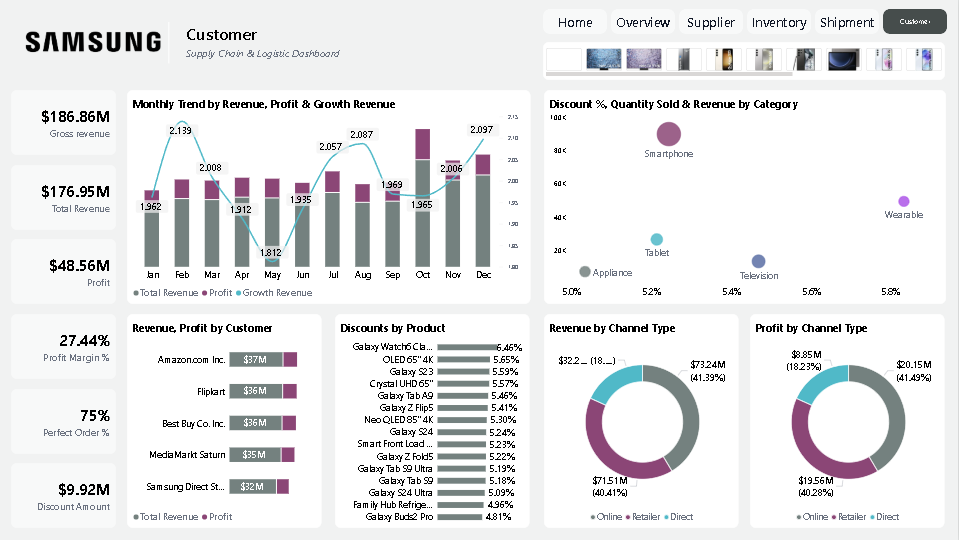

Layout of this report page (visuals, bound fields, positions):
{"tool":"powerbi","page":{"name":"Customer","canvas":[1920,1080],"ordinal":5},"visuals":[{"type":"image","box":[34,30,300,106],"z":0},{"type":"shape","title":"Customer","box":[376.1,43.5,352.2,84.8],"z":1000},{"type":"shape","box":[290,43.3,103.3,83.3],"z":2000},{"type":"cardVisual","fields":{"Data":["Measures Table.Total Revenue"]},"box":[26.7,329.9,210,130],"z":3000},{"type":"cardVisual","fields":{"Data":["Measures Table.Profit"]},"box":[26.7,479,210,130],"z":4000},{"type":"cardVisual","fields":{"Data":["Sum(fact_sales.discount_amount)"]},"box":[26.1,926.1,210,130.4],"z":5000},{"type":"cardVisual","fields":{"Data":["Sum(fact_sales.gross_revenue)"]},"box":[26.1,180.4,210,130.4],"z":6000},{"type":"cardVisual","fields":{"Data":["Measures Table.Perfect Order %"]},"box":[26.7,777,210,130],"z":7000},{"type":"cardVisual","fields":{"Data":["Measures Table.Profit Margin %"]},"box":[26.7,628,210,130],"z":8000},{"type":"clusteredBarChart","title":"Discounts by Product ","fields":{"Category":["dim_product.product_name"],"Y":["Measures Table.Discount %"]},"box":[673.9,628.3,389.1,428.3],"z":9000},{"type":"barChart","title":"Revenue, Profit by Customer","fields":{"Category":["dim_customer.customer_name"],"Y":["Measures Table.Total Revenue","Measures Table.Profit"]},"box":[258.7,628.3,389.1,428.3],"z":10000},{"type":"donutChart","title":"Revenue by Channel Type","fields":{"Y":["Measures Table.Total Revenue"],"Category":["dim_customer.channel_type"]},"box":[1091.3,628.3,389,428.3],"z":11000},{"type":"scatterChart","title":"Discount %, Quantity Sold & Revenue by Category","fields":{"Y":["Sum(fact_sales.quantity_sold)"],"X":["Measures Table.Discount %"],"Size":["Measures Table.Total Revenue"],"Series":["dim_product.category"]},"box":[1091.3,180.4,804.3,428.3],"z":12000},{"type":"lineStackedColumnComboChart","title":"Monthly Trend by Revenue, Profit & Growth Revenue","fields":{"Category":["dim_date.Month_short"],"Y":["Measures Table.Total Revenue","Measures Table.Profit"],"Y2":["Measures Table.Growth Revenue"]},"box":[258.7,180.4,806.5,428.3],"z":13000},{"type":"donutChart","title":"Profit by Channel Type","fields":{"Category":["dim_customer.channel_type"],"Y":["Measures Table.Profit"]},"box":[1504.3,628.3,389.1,428.3],"z":14000},{"type":"advancedSlicerVisual","fields":{"Values":["dim_product.product_name"]},"box":[1089.1,84.8,804.3,76.1],"z":15000},{"type":"pageNavigator","box":[1089.1,17.4,808.7,50],"z":16000}]}

Visuals, with their boxes in screenshot pixels (x1, y1, x2, y2), scaled from the page's 1920x1080 canvas onto the 959x540 screenshot:
image: [17,15,167,68]
"Customer" shape: [188,22,364,64]
shape: [145,22,196,63]
cardVisual - Measures Table.Total Revenue: [13,165,118,230]
cardVisual - Measures Table.Profit: [13,240,118,304]
cardVisual - Sum(fact_sales.discount_amount): [13,463,118,528]
cardVisual - Sum(fact_sales.gross_revenue): [13,90,118,155]
cardVisual - Measures Table.Perfect Order %: [13,388,118,454]
cardVisual - Measures Table.Profit Margin %: [13,314,118,379]
"Discounts by Product " clusteredBarChart: [337,314,531,528]
"Revenue, Profit by Customer" barChart: [129,314,324,528]
"Revenue by Channel Type" donutChart: [545,314,739,528]
"Discount %, Quantity Sold & Revenue by Category" scatterChart: [545,90,947,304]
"Monthly Trend by Revenue, Profit & Growth Revenue" lineStackedColumnComboChart: [129,90,532,304]
"Profit by Channel Type" donutChart: [751,314,946,528]
advancedSlicerVisual - dim_product.product_name: [544,42,946,80]
pageNavigator: [544,9,948,34]
